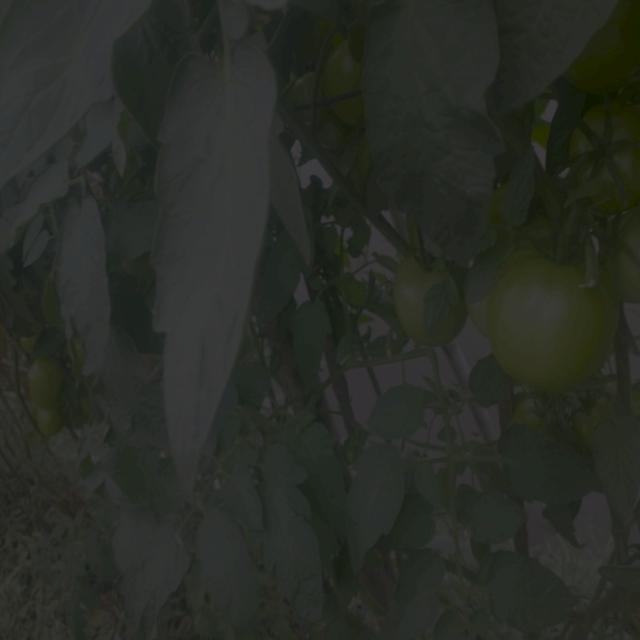tomato: (483, 247, 621, 404), (390, 256, 470, 360), (320, 32, 382, 133), (581, 102, 640, 204), (573, 24, 640, 93), (23, 344, 67, 406), (28, 410, 69, 442)
